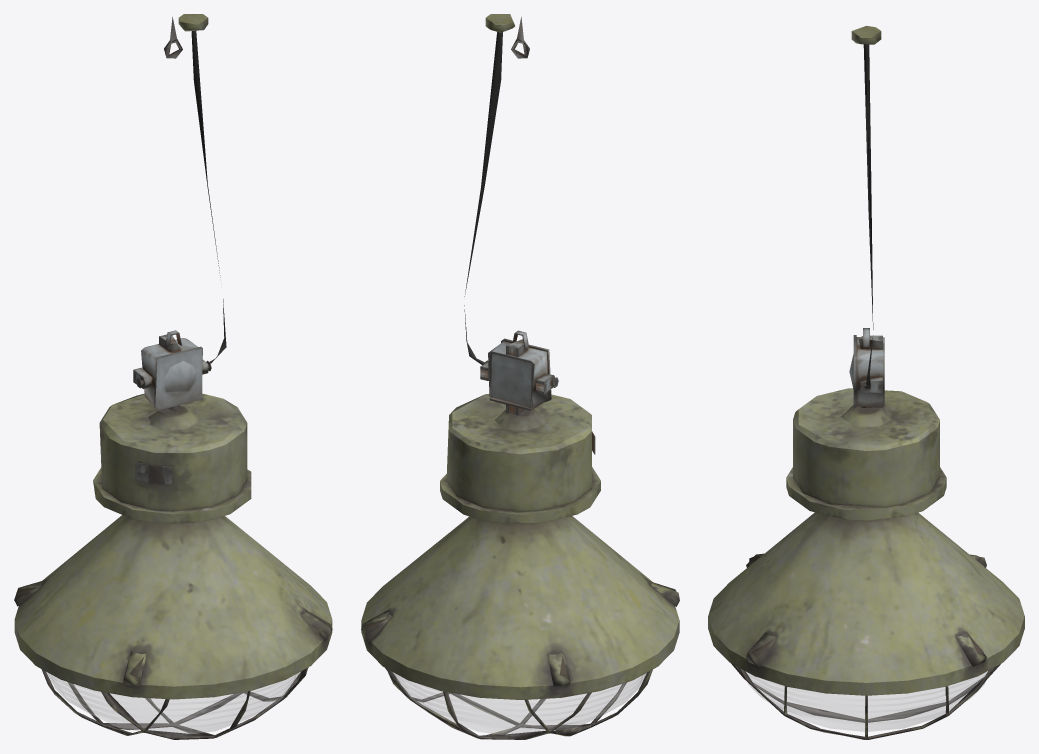
File: hanging_industrial_lamp.glb
3 views of the same model, side by side, from view 1: azimuth 30°, elevation 25°; view 2: azimuth 150°, elevation 25°; view 3: azimuth 270°, elevation 25° (orthographic).
Parts seen in each view (by area): view 1: hanging_industrial_lamp; view 2: hanging_industrial_lamp; view 3: hanging_industrial_lamp.
Part boxes in pixels (box(x1,y1,x2,y2)): hanging_industrial_lamp: box(14, 14, 332, 739); hanging_industrial_lamp: box(361, 14, 679, 739); hanging_industrial_lamp: box(708, 26, 1024, 739).
Bounding box in the file's own units: 0.5497 × 1.36 × 0.5497.
Materials: 2 (1 with a texture image).
